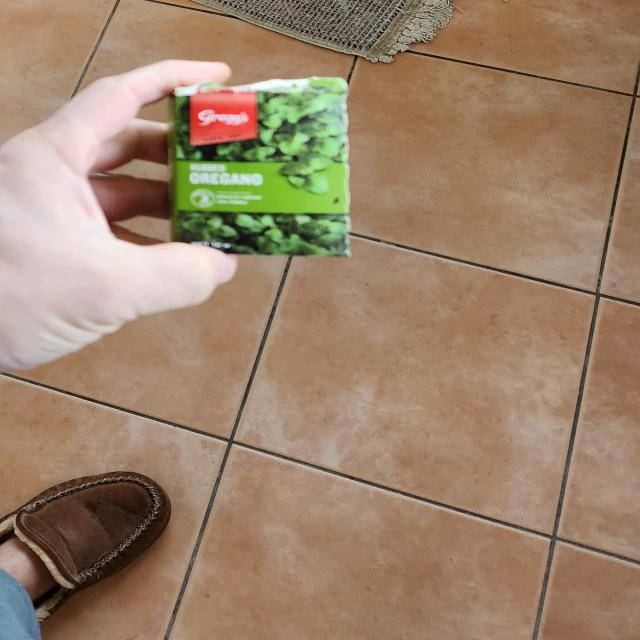oregano: (166, 78, 352, 260)
